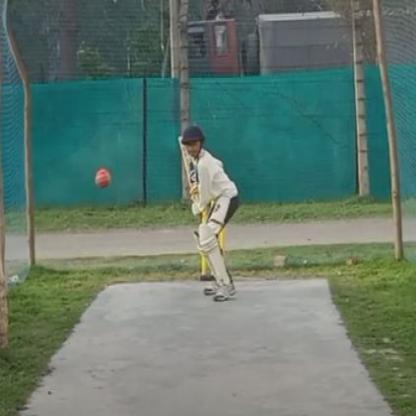ball: (92, 162, 117, 193)
